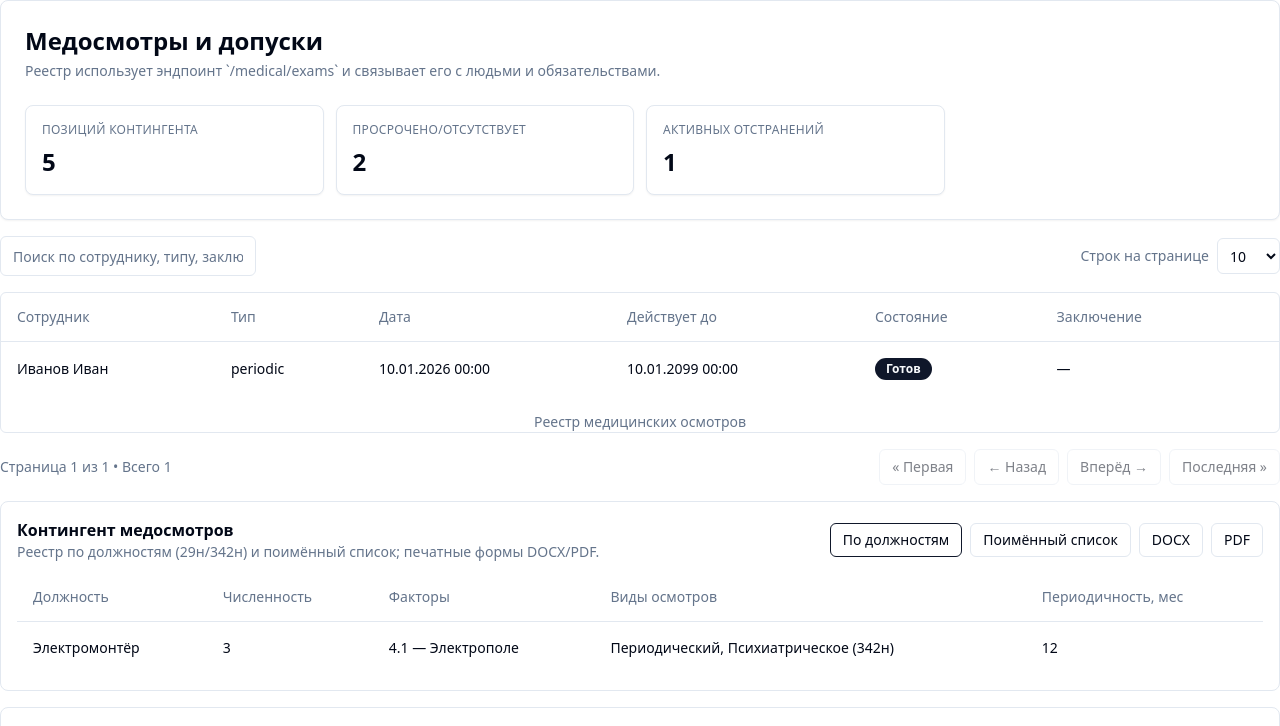
Scenario: MedicalPage contingent section › shows a print error when the renderer is unavailable
What coordinates should you click on to do the following:
click the button "PDF"
I would click on:
 (1237, 540)
Its box is [1211,522,1263,556].
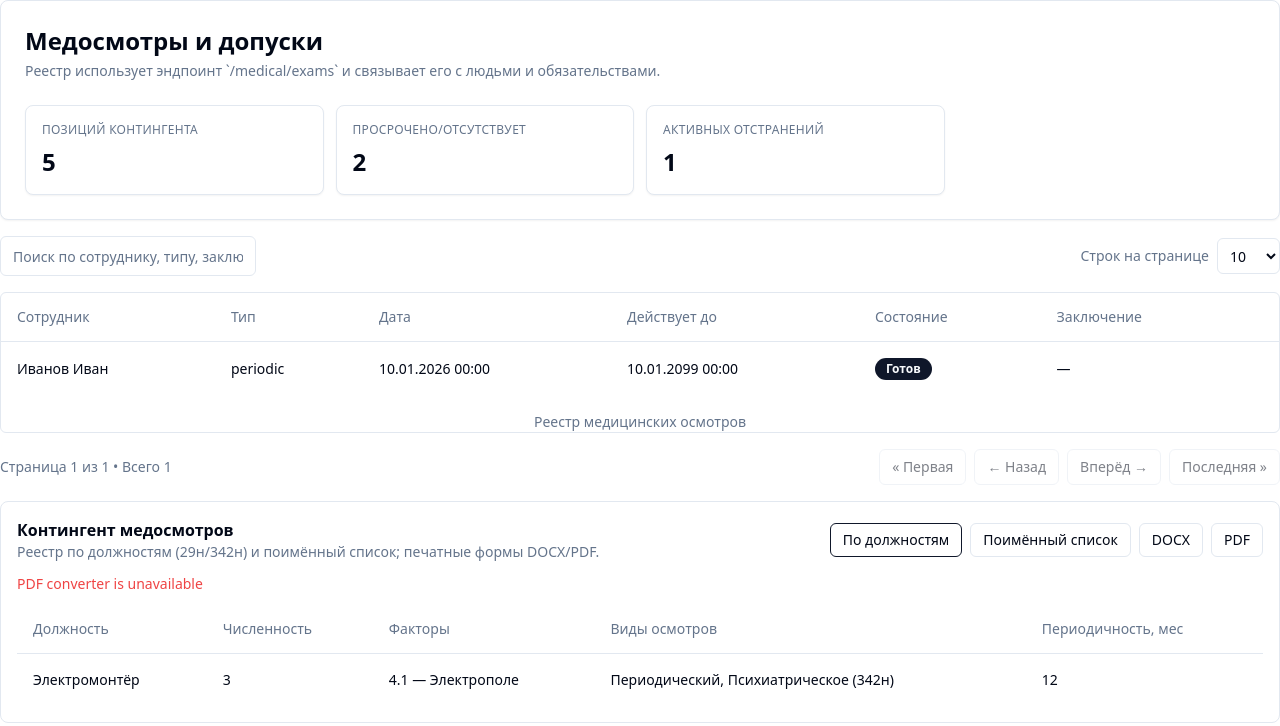
Expected: the text "PDF converter is unavailable" is shown, [17,574,203,592]
